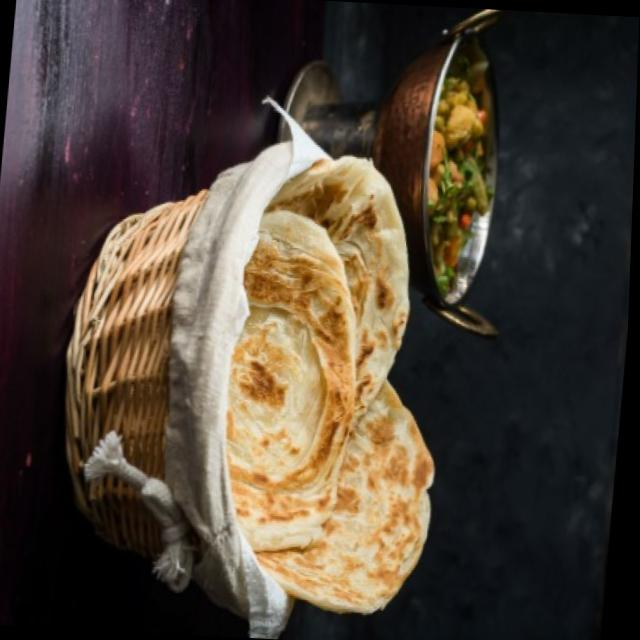PAROTTA: (224, 154, 431, 620)
